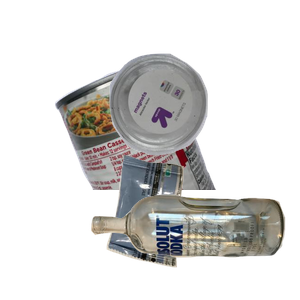glass: (88, 192, 300, 300)
metal: (52, 57, 260, 237)
plastic: (107, 51, 300, 199)
trash: (104, 152, 280, 300)
